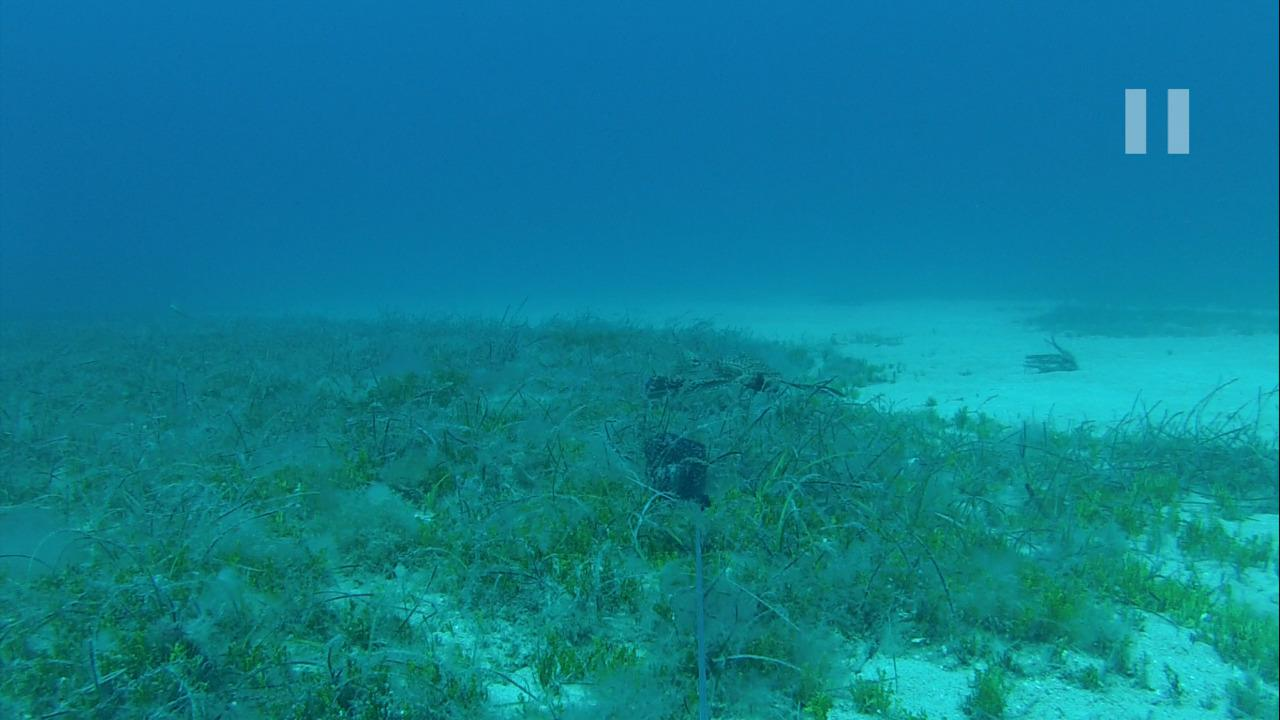dactylopterus: (640, 341, 830, 412)
